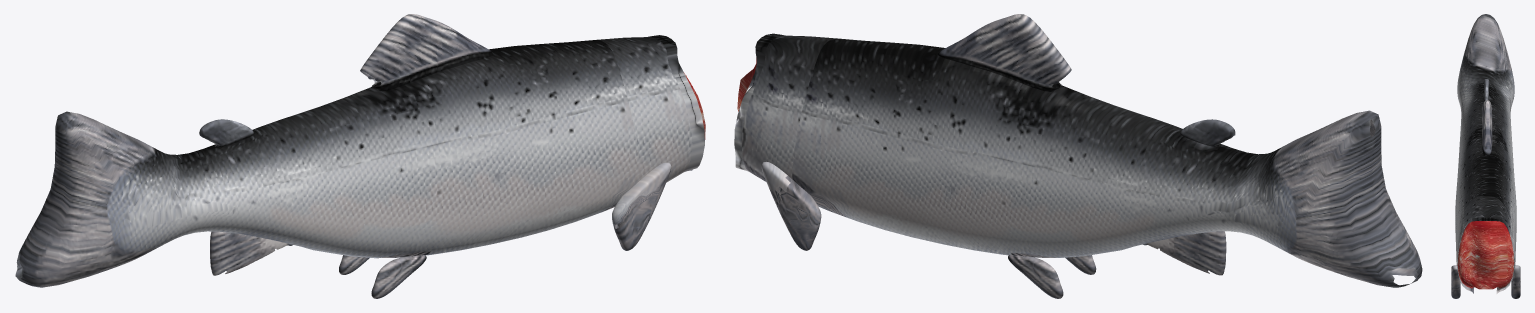
3 renders of one model, left to right at view 1: azimuth 30°, elevation 25°; view 2: azimuth 150°, elevation 25°; view 3: azimuth 270°, elevation 25°, orthographic. The views are drawn at different scales.
Parts seen in each view (by area): view 1: Første snit; view 2: Første snit; view 3: Første snit.
Part boxes in pixels (left/top/right/bottom): Første snit: left=15, top=14, right=705, bottom=298; Første snit: left=734, top=14, right=1422, bottom=298; Første snit: left=1451, top=14, right=1520, bottom=298.
Size of the model in its own units: 666 by 248 by 107.
